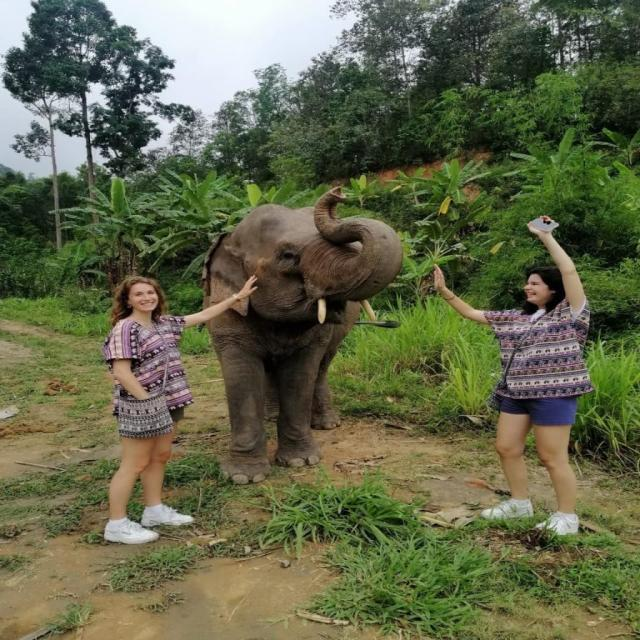Elephant: (192, 173, 418, 497)
